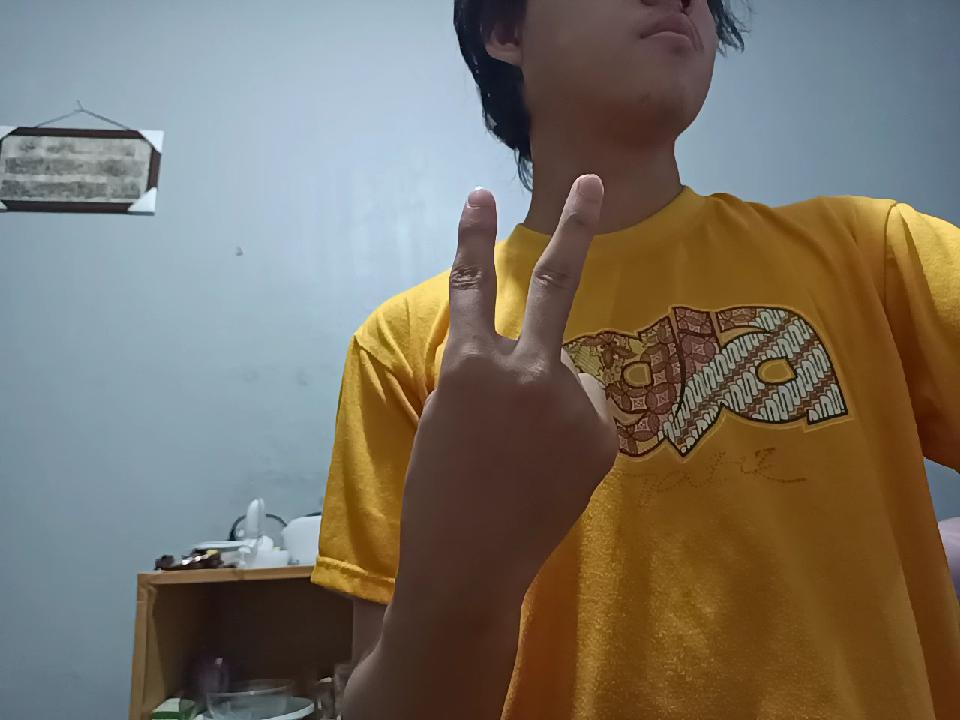scissors: (356, 168, 602, 578)
